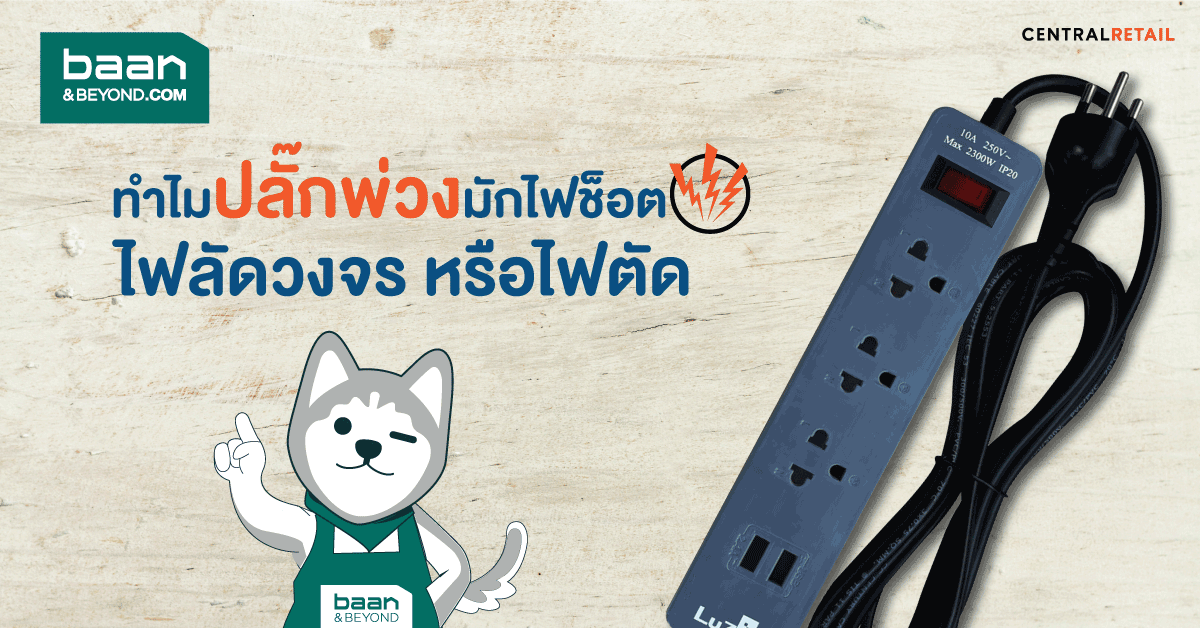Three_eye_plug: (660, 92, 1051, 628)
